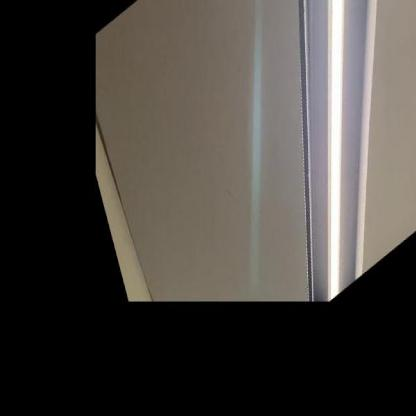light_on: (240, 0, 416, 304)
